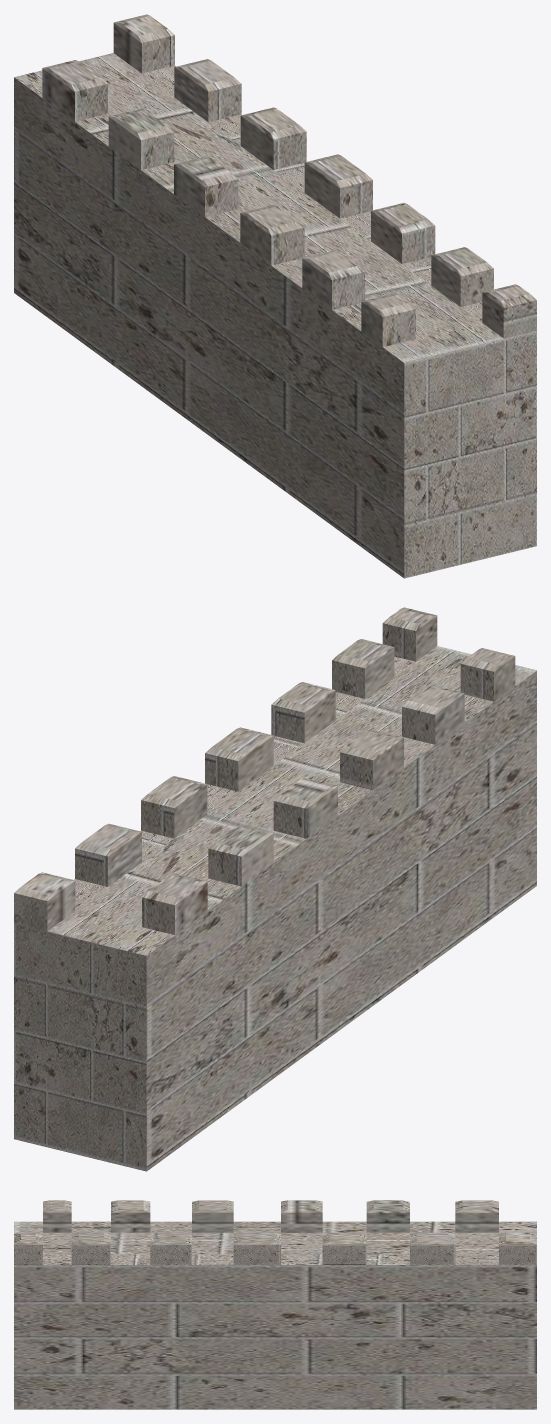
Rendered from castlewall.fbx.
3 views of the same model, one above another, from view 1: azimuth 30°, elevation 25°; view 2: azimuth 150°, elevation 25°; view 3: azimuth 270°, elevation 25° (orthographic). The views are drawn at different scales.
Visible parts, largest first — view 1: Cube; view 2: Cube; view 3: Cube.
Part boxes in pixels (bbox=[...]): Cube: bbox=[14, 14, 536, 578]; Cube: bbox=[14, 607, 536, 1171]; Cube: bbox=[14, 1200, 536, 1409].
Size of the model in its own units: 1534 by 2750 by 7811.
